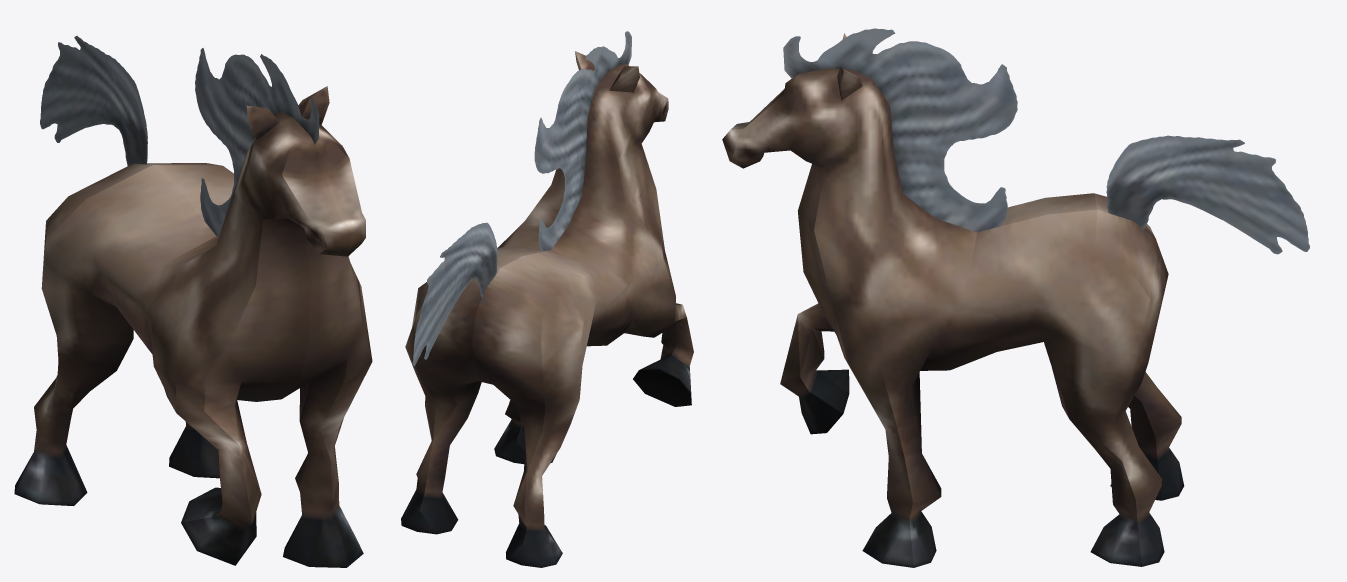
Rendered from poni.fbx.
The picture shows the model from 3 angles, left to right: view 1: azimuth 30°, elevation 25°; view 2: azimuth 150°, elevation 25°; view 3: azimuth 270°, elevation 25°; orthographic projection. The views are drawn at different scales.
Visible parts, largest first — view 1: s4studio_mesh_1.001; view 2: s4studio_mesh_1.001; view 3: s4studio_mesh_1.001.
Part boxes in pixels (left/top/right/bottom): s4studio_mesh_1.001: left=14, top=36, right=372, bottom=567; s4studio_mesh_1.001: left=401, top=31, right=693, bottom=567; s4studio_mesh_1.001: left=722, top=28, right=1309, bottom=567.
Bounding box in the file's own units: 8.59 × 20.34 × 22.28.
1 material, 1 textured.
